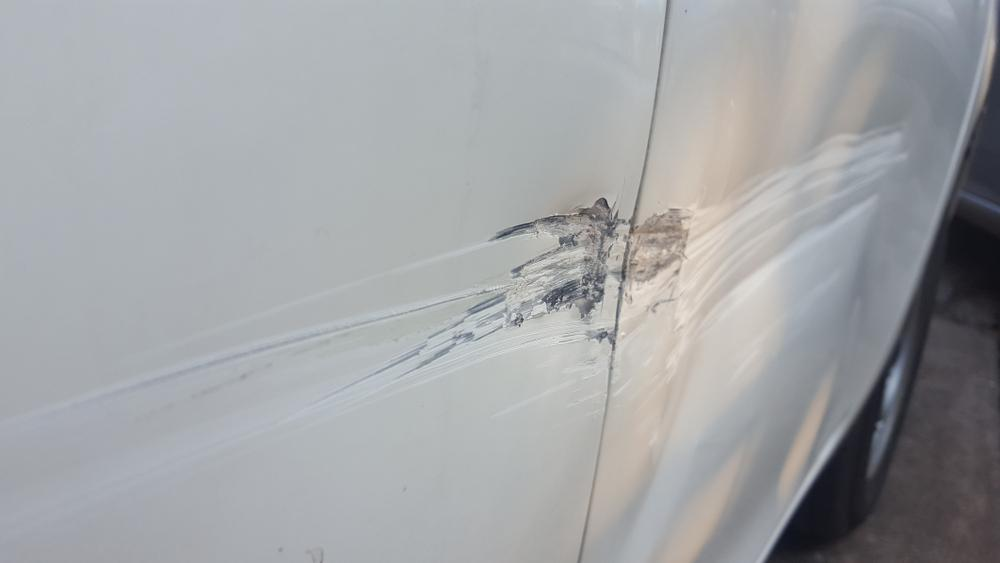dent: (630, 0, 907, 563)
scratch: (0, 193, 635, 529), (604, 204, 690, 407)
